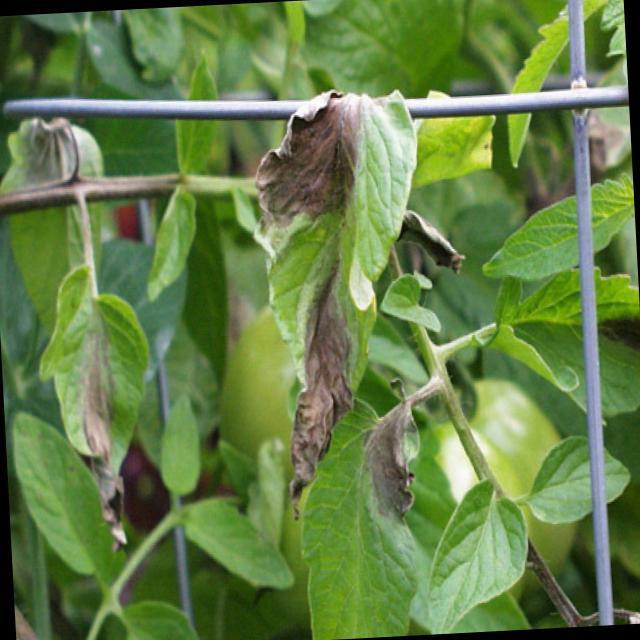Healthy Leaf: (469, 170, 636, 279), (418, 473, 532, 631), (524, 432, 635, 526)
